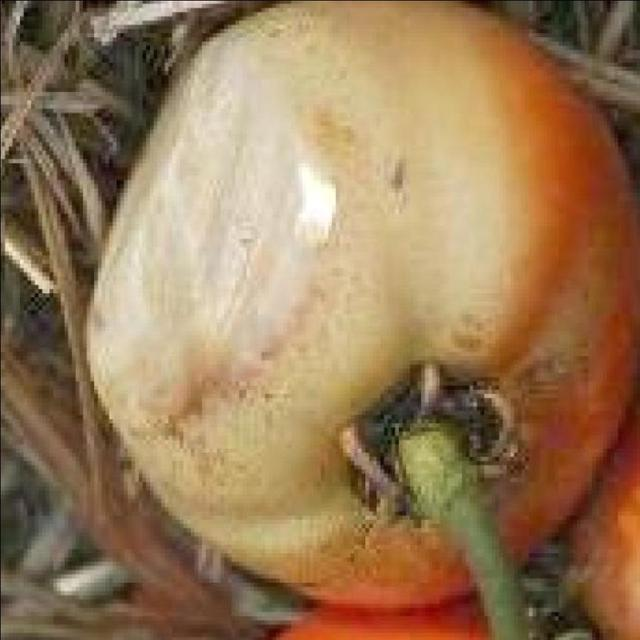Sunscald Fruit: (57, 15, 226, 306)
